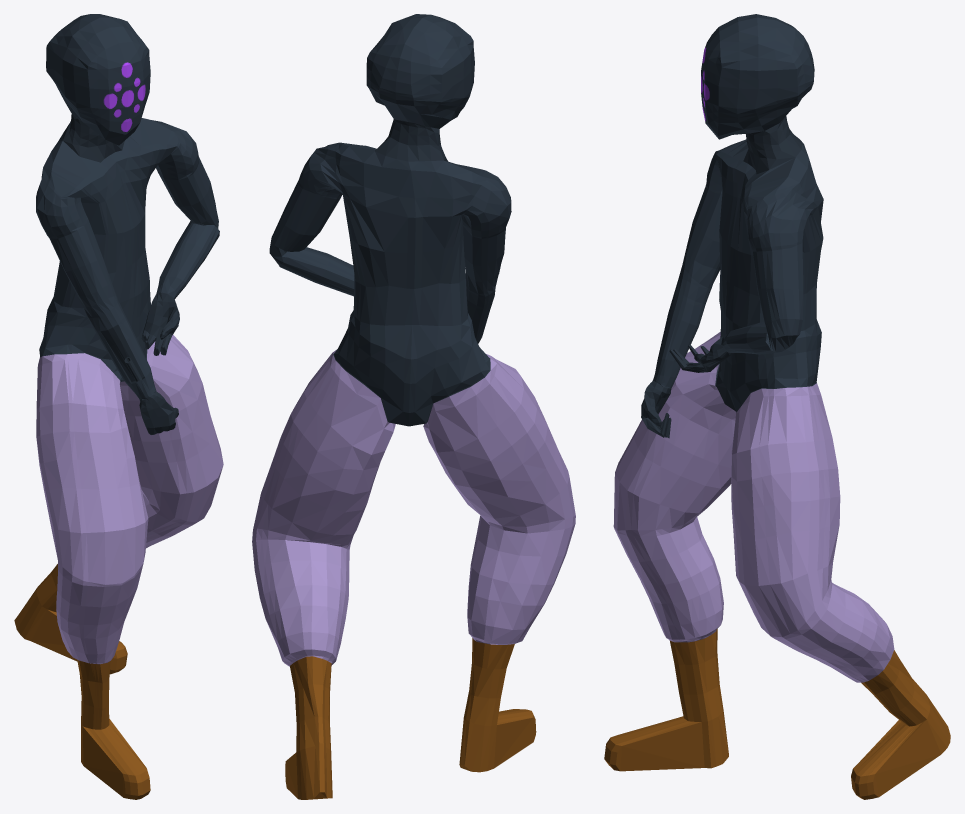
File: Oracle_WB_000009.obj
The picture shows the model from 3 angles, left to right: view 1: azimuth 30°, elevation 25°; view 2: azimuth 150°, elevation 25°; view 3: azimuth 270°, elevation 25°; orthographic projection. The views are drawn at different scales.
Parts seen in each view (by area): view 1: Cube; view 2: Cube; view 3: Cube.
Part boxes in pixels (bbox=[...]): Cube: bbox=[14, 14, 223, 799]; Cube: bbox=[252, 14, 575, 799]; Cube: bbox=[604, 14, 950, 799].
Bounding box in the file's own units: 1.23 × 3.76 × 1.55.
